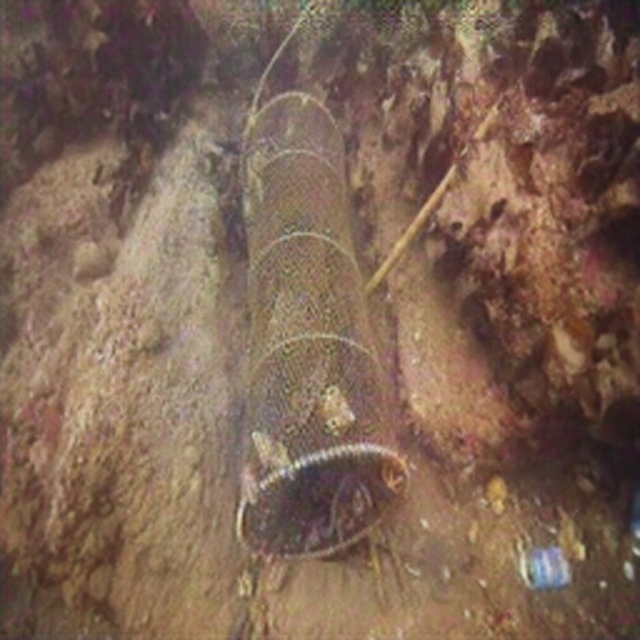mine: (231, 93, 409, 563)
